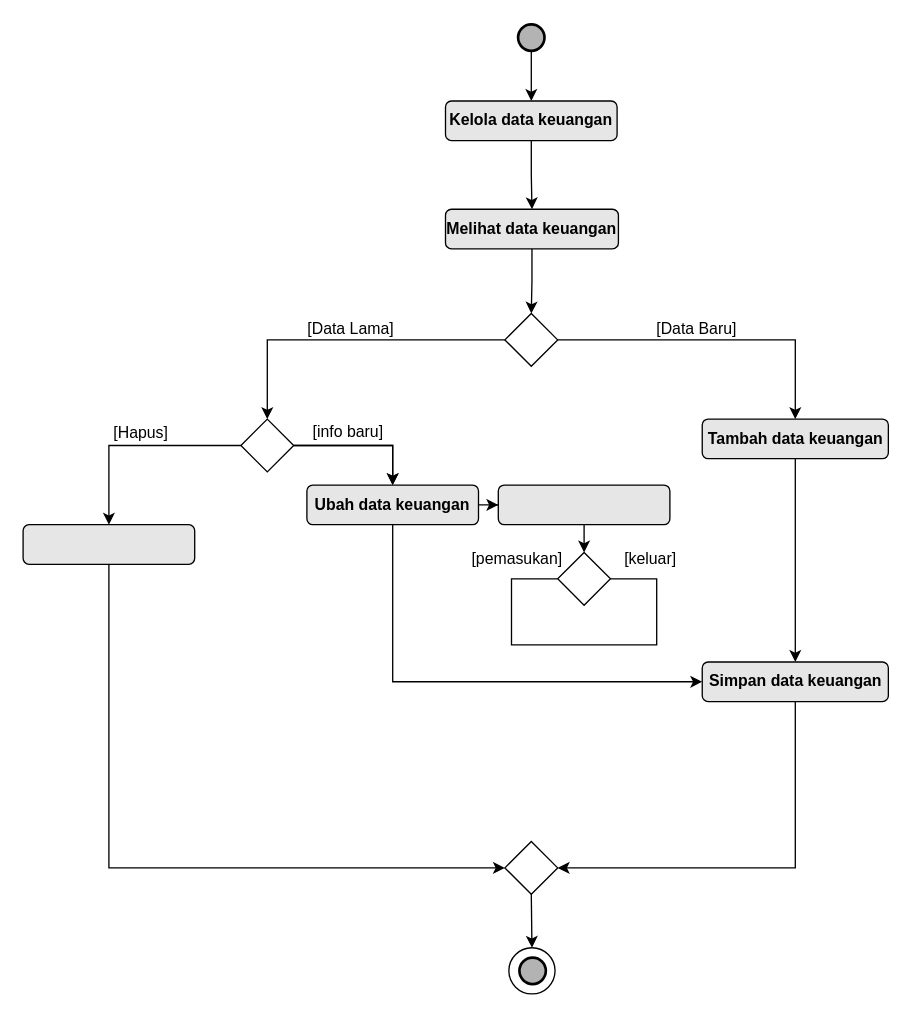
Some shapes in this 912 by 1016 pixel diagram are drawn without their labels. Each missing label, with the box of its shape:
Hapus data keuangan: (22, 523, 195, 564)
Ubah status data keuangan: (497, 484, 670, 525)
